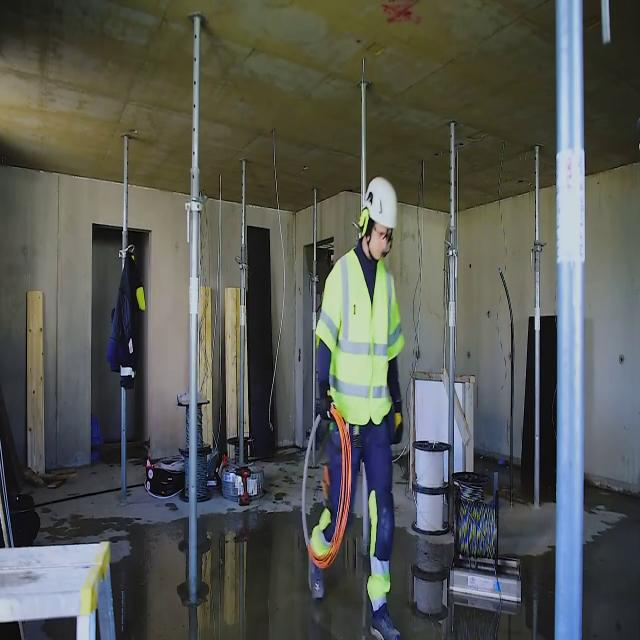earmuff: (352, 207, 370, 244)
glasses: (372, 224, 393, 246)
helmet: (359, 172, 400, 235)
